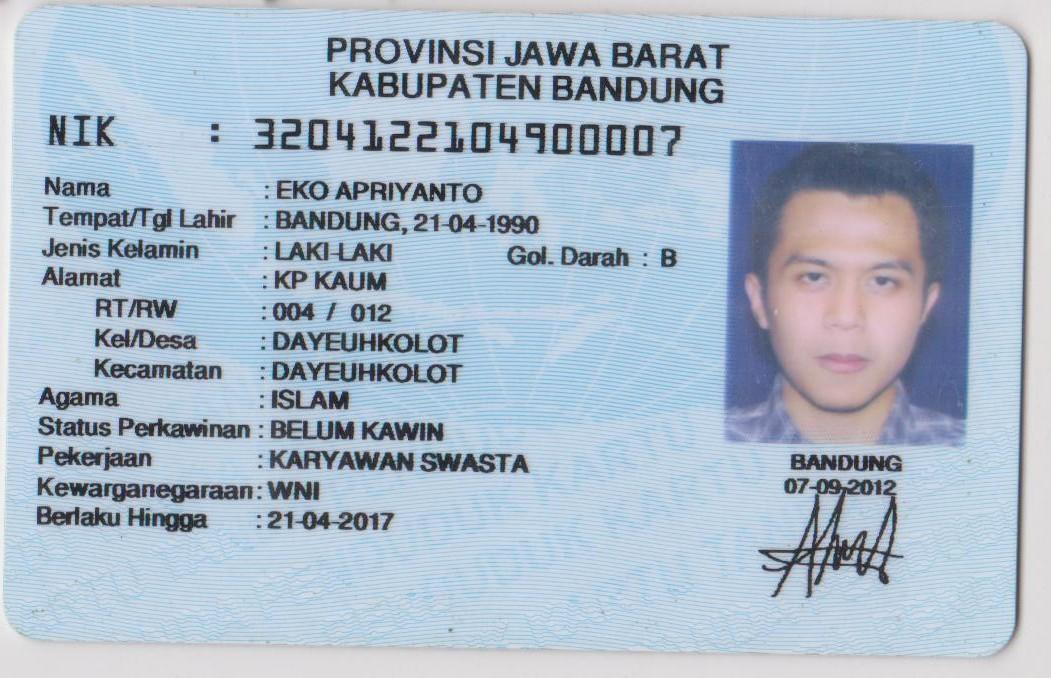ID-card: (16, 5, 1014, 637)
